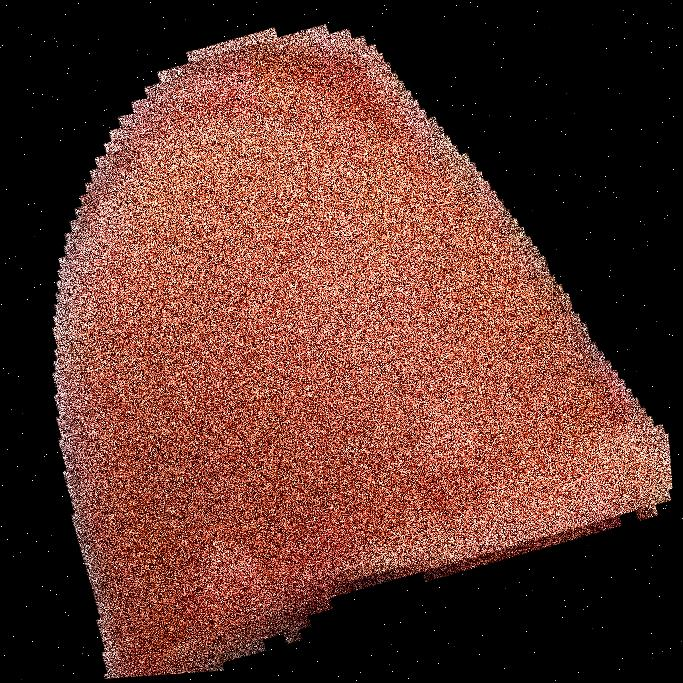Capacete: (120, 0, 475, 682)
